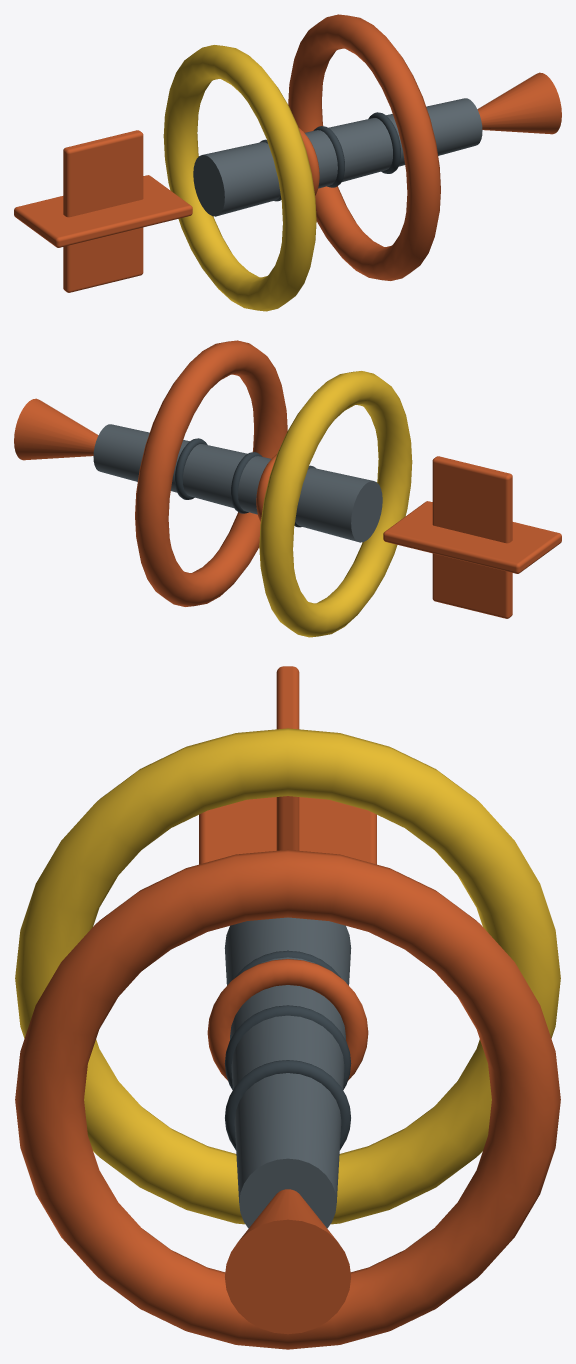
The model's file is shot.glb.
3 renders of one model, top to bottom at view 1: azimuth 30°, elevation 25°; view 2: azimuth 150°, elevation 25°; view 3: azimuth 270°, elevation 25°, orthographic. The views are drawn at different scales.
Bounding box in the file's own units: 4.11 × 1.9 × 1.9.
